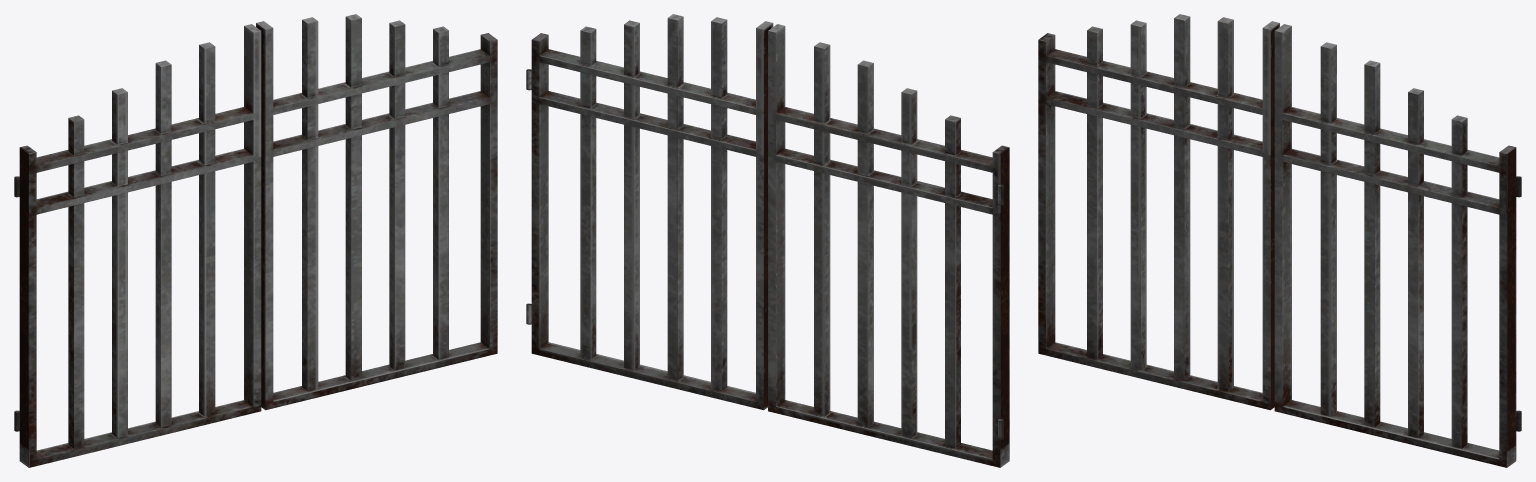
3 views of the same model, side by side, from view 1: azimuth 30°, elevation 25°; view 2: azimuth 150°, elevation 25°; view 3: azimuth 330°, elevation 25° (orthographic).
Visible parts, largest first — view 1: Gate2, Gate1; view 2: Gate2, Gate1; view 3: Gate1, Gate2.
Part boxes in pixels (x1,y1,x2,y2): Gate2: [14, 24, 261, 467]; Gate1: [256, 14, 497, 410]; Gate2: [768, 24, 1009, 467]; Gate1: [526, 14, 773, 410]; Gate1: [1274, 24, 1521, 467]; Gate2: [1038, 14, 1279, 410].
Bounding box in the file's own units: 0.0275 × 0.021 × 0.00116.
1 material, 1 textured.
